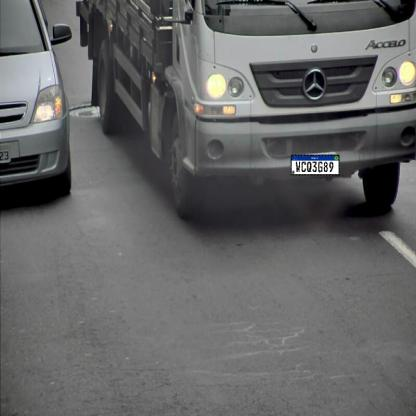PlacaM: (290, 154, 340, 176)
